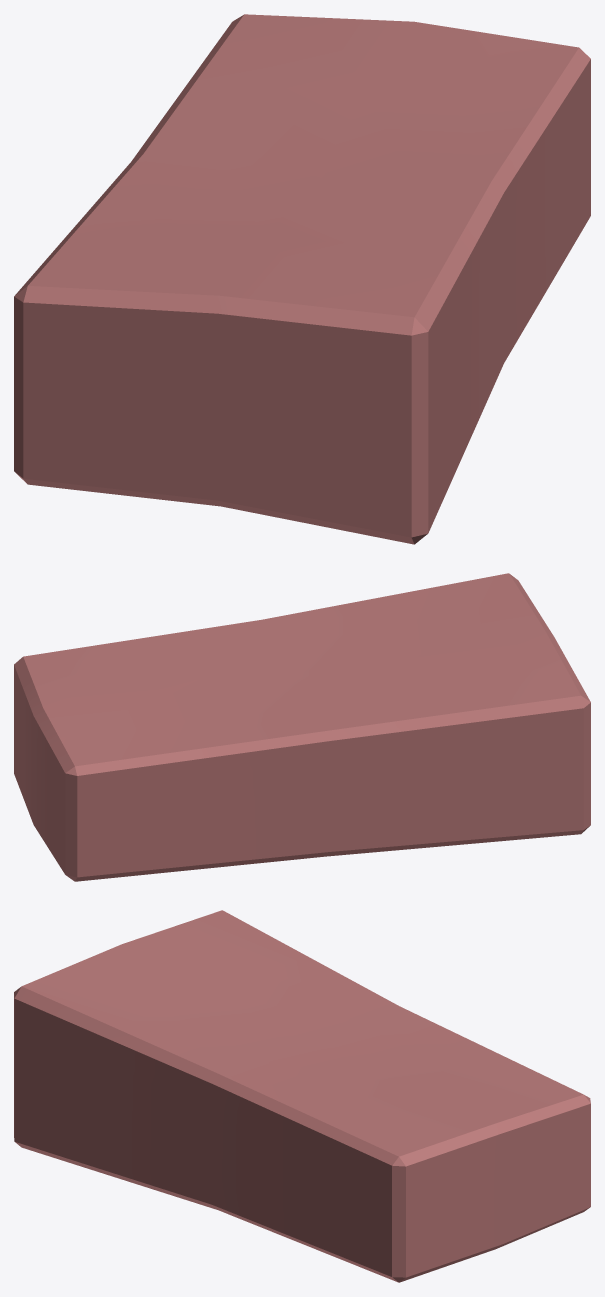
File: Red2.fbx
3 renders of one model, top to bottom at view 1: azimuth 30°, elevation 25°; view 2: azimuth 150°, elevation 25°; view 3: azimuth 270°, elevation 25°, orthographic. The views are drawn at different scales.
Visible parts, largest first — view 1: rectangle; view 2: rectangle; view 3: rectangle.
Boxes of the visible parts, bbox=[...] form: rectangle: bbox=[14, 14, 590, 544]; rectangle: bbox=[14, 573, 590, 881]; rectangle: bbox=[14, 910, 590, 1282].
Bounding box in the file's own units: 2.59 × 0.8109 × 2.63.
